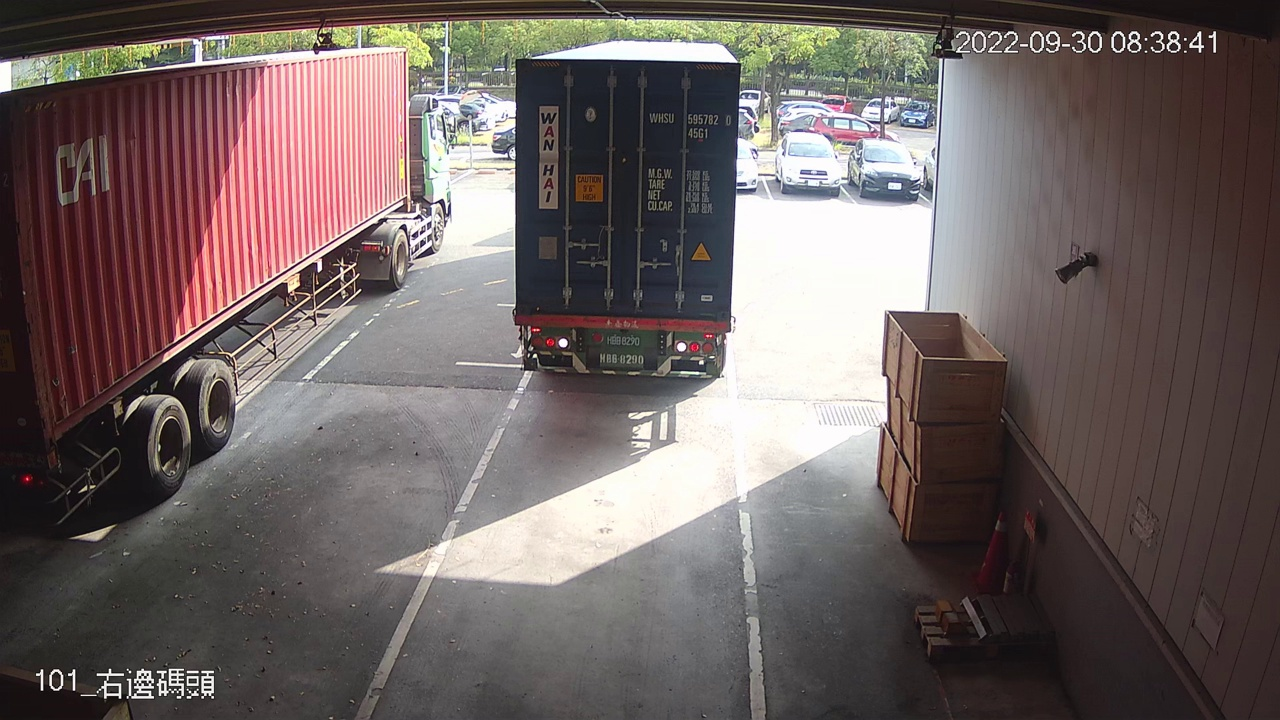container: (647, 107, 733, 143)
